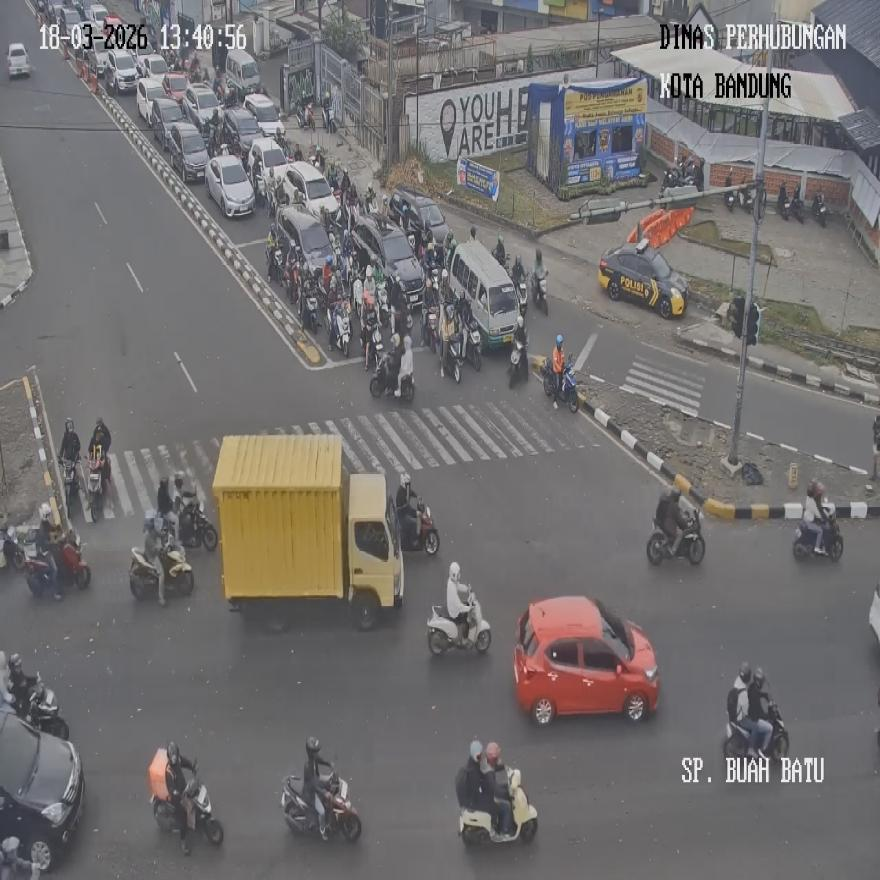Motor: (514, 595, 660, 724), (0, 708, 85, 872)
Truk: (458, 768, 538, 846), (281, 771, 360, 842), (151, 779, 223, 848), (23, 534, 90, 598), (426, 586, 490, 652), (129, 539, 193, 604), (724, 703, 788, 761), (646, 504, 706, 564), (23, 674, 68, 740), (793, 502, 843, 561), (177, 496, 217, 551), (399, 500, 438, 555), (368, 357, 414, 401), (0, 836, 44, 880), (545, 354, 578, 412), (86, 456, 110, 522), (61, 455, 83, 517), (329, 303, 352, 356), (507, 335, 528, 387), (445, 328, 463, 384), (464, 319, 482, 370), (365, 323, 382, 372), (530, 270, 548, 315), (300, 292, 319, 334), (422, 308, 438, 354), (285, 258, 300, 304), (267, 243, 283, 284), (789, 187, 806, 221), (724, 168, 737, 211), (740, 181, 756, 214), (516, 275, 528, 318), (812, 191, 826, 226), (777, 181, 789, 220)
